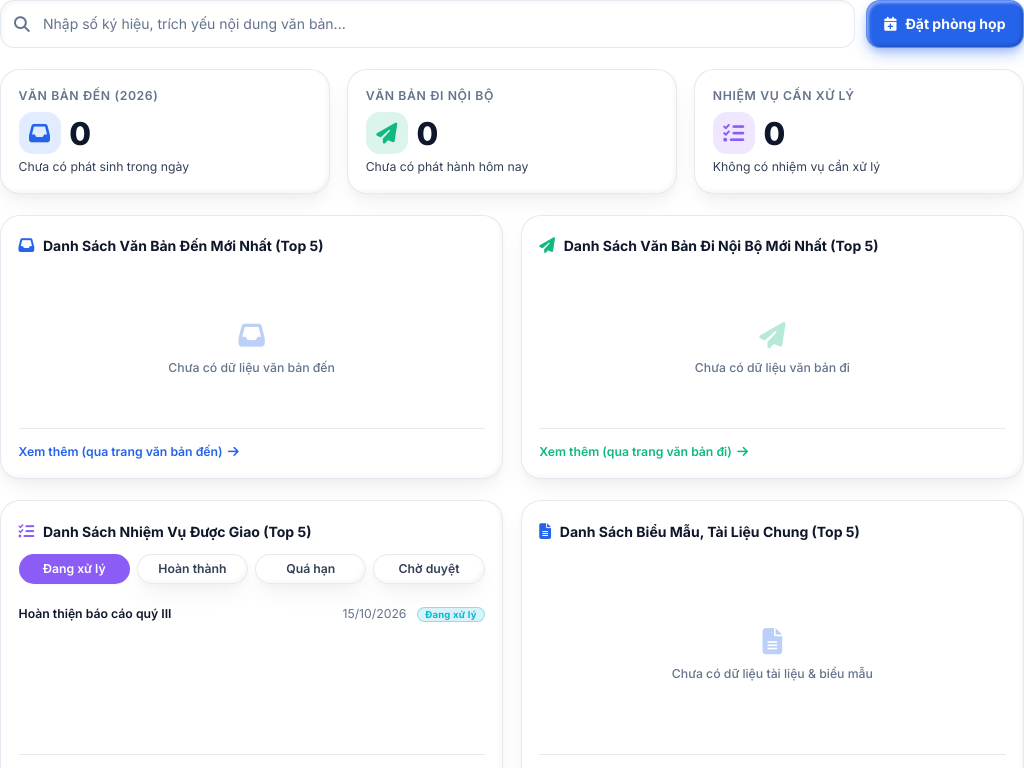
Test: ModernDashboardView Component (Zero Mock Data) › opens TaskDetailModal when clicking on a task item
What coordinates should you click on to do the following:
click the text "Hoàn thiện báo cáo quý III"
I would click on:
 (95, 613)
Its box is top-left (18, 606), bottom-right (172, 621).
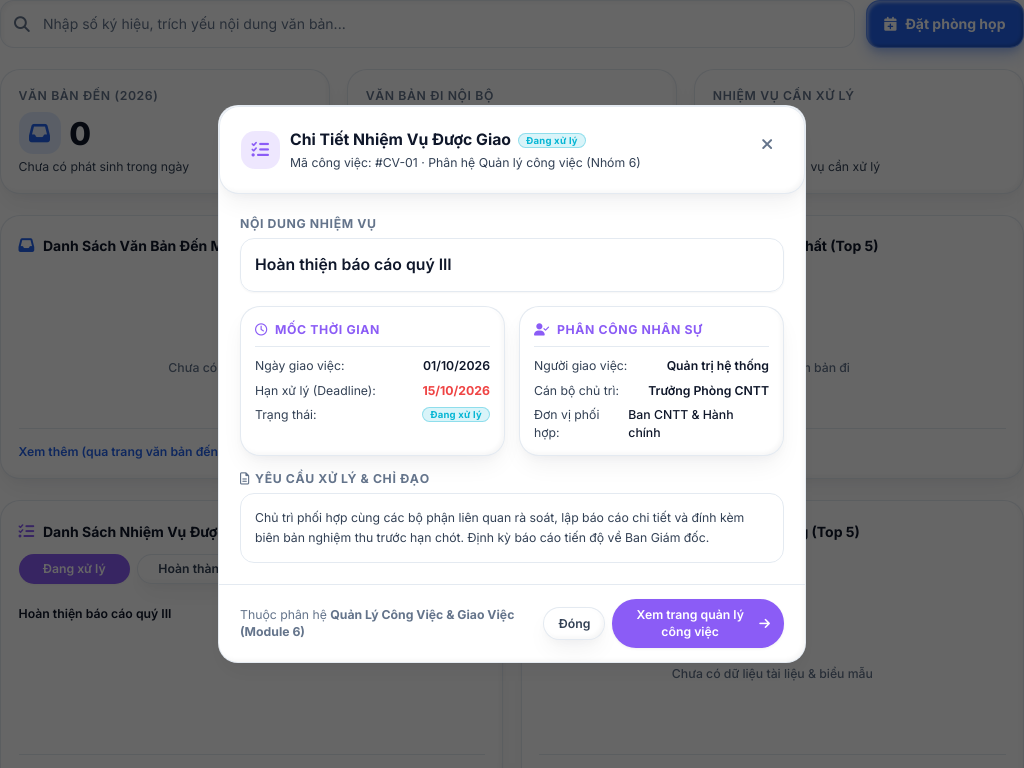
Expected: the heading "Chi Tiết Nhiệm Vụ Được Giao" is shown, top-left (290, 128), bottom-right (511, 153)
Expected: the text "Mã công việc: #CV-01 · Phân hệ Quản lý công việc (Nhóm 6)" is shown, top-left (290, 154), bottom-right (641, 172)
